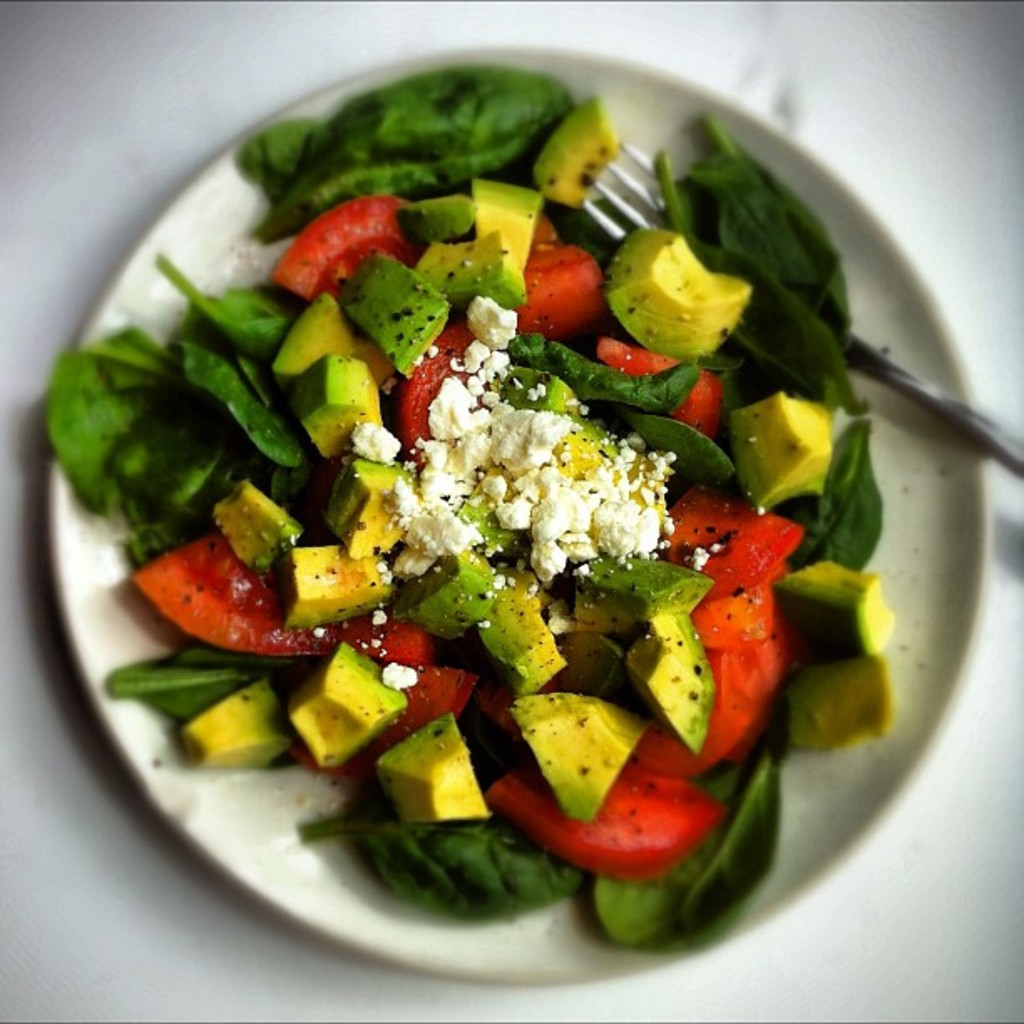Tomato: (128, 525, 388, 655), (484, 759, 729, 880), (629, 627, 790, 756), (288, 665, 476, 773), (660, 484, 803, 599), (271, 192, 407, 296), (596, 335, 720, 440), (399, 319, 472, 470), (514, 216, 602, 337), (693, 563, 787, 647), (355, 614, 437, 665)
